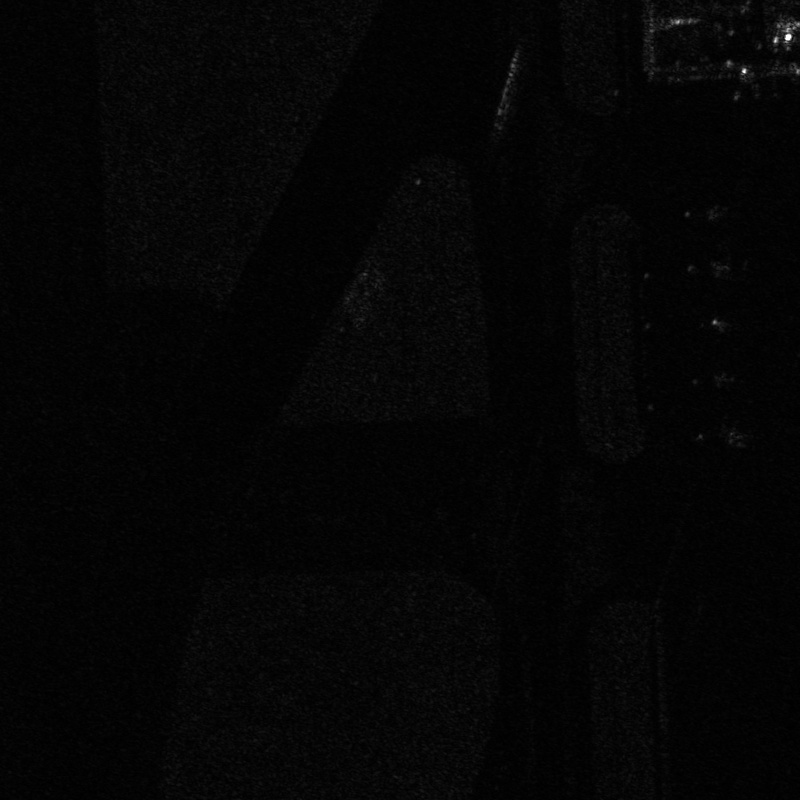ARJ21: (683, 249, 740, 286), (697, 304, 748, 341)
other: (685, 359, 745, 399), (691, 414, 754, 452), (682, 192, 736, 230)
